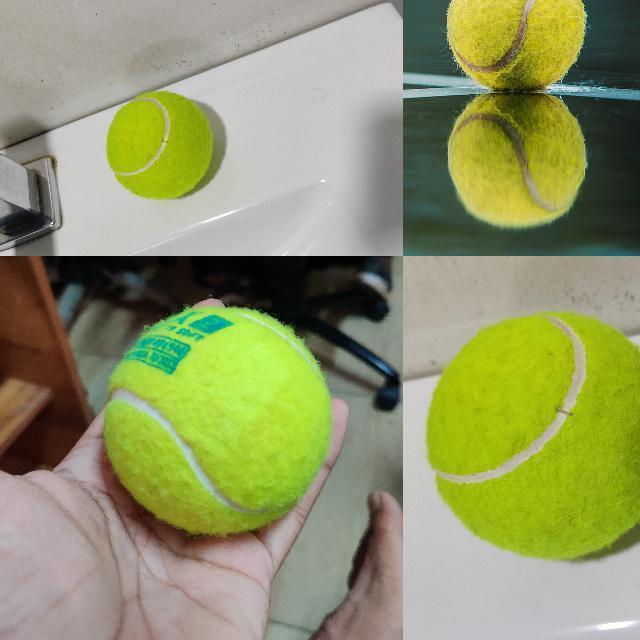tennis-ball: (423, 309, 639, 561), (105, 308, 332, 532), (445, 0, 587, 91), (104, 90, 214, 201)
